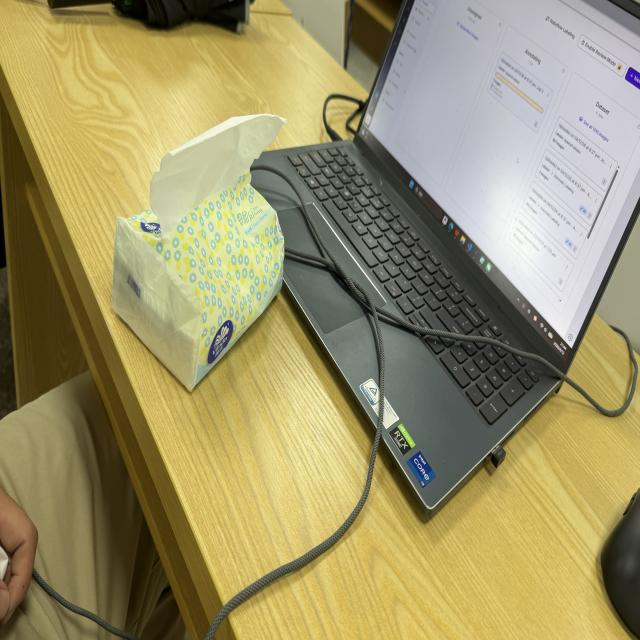tissue: (113, 116, 283, 390), (150, 115, 285, 239), (0, 547, 8, 580)
